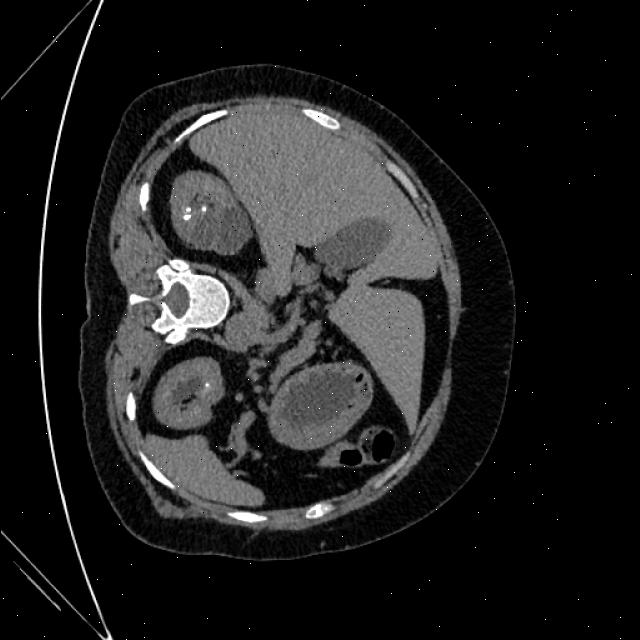kidneystone: (183, 214, 191, 220), (201, 205, 206, 211)
